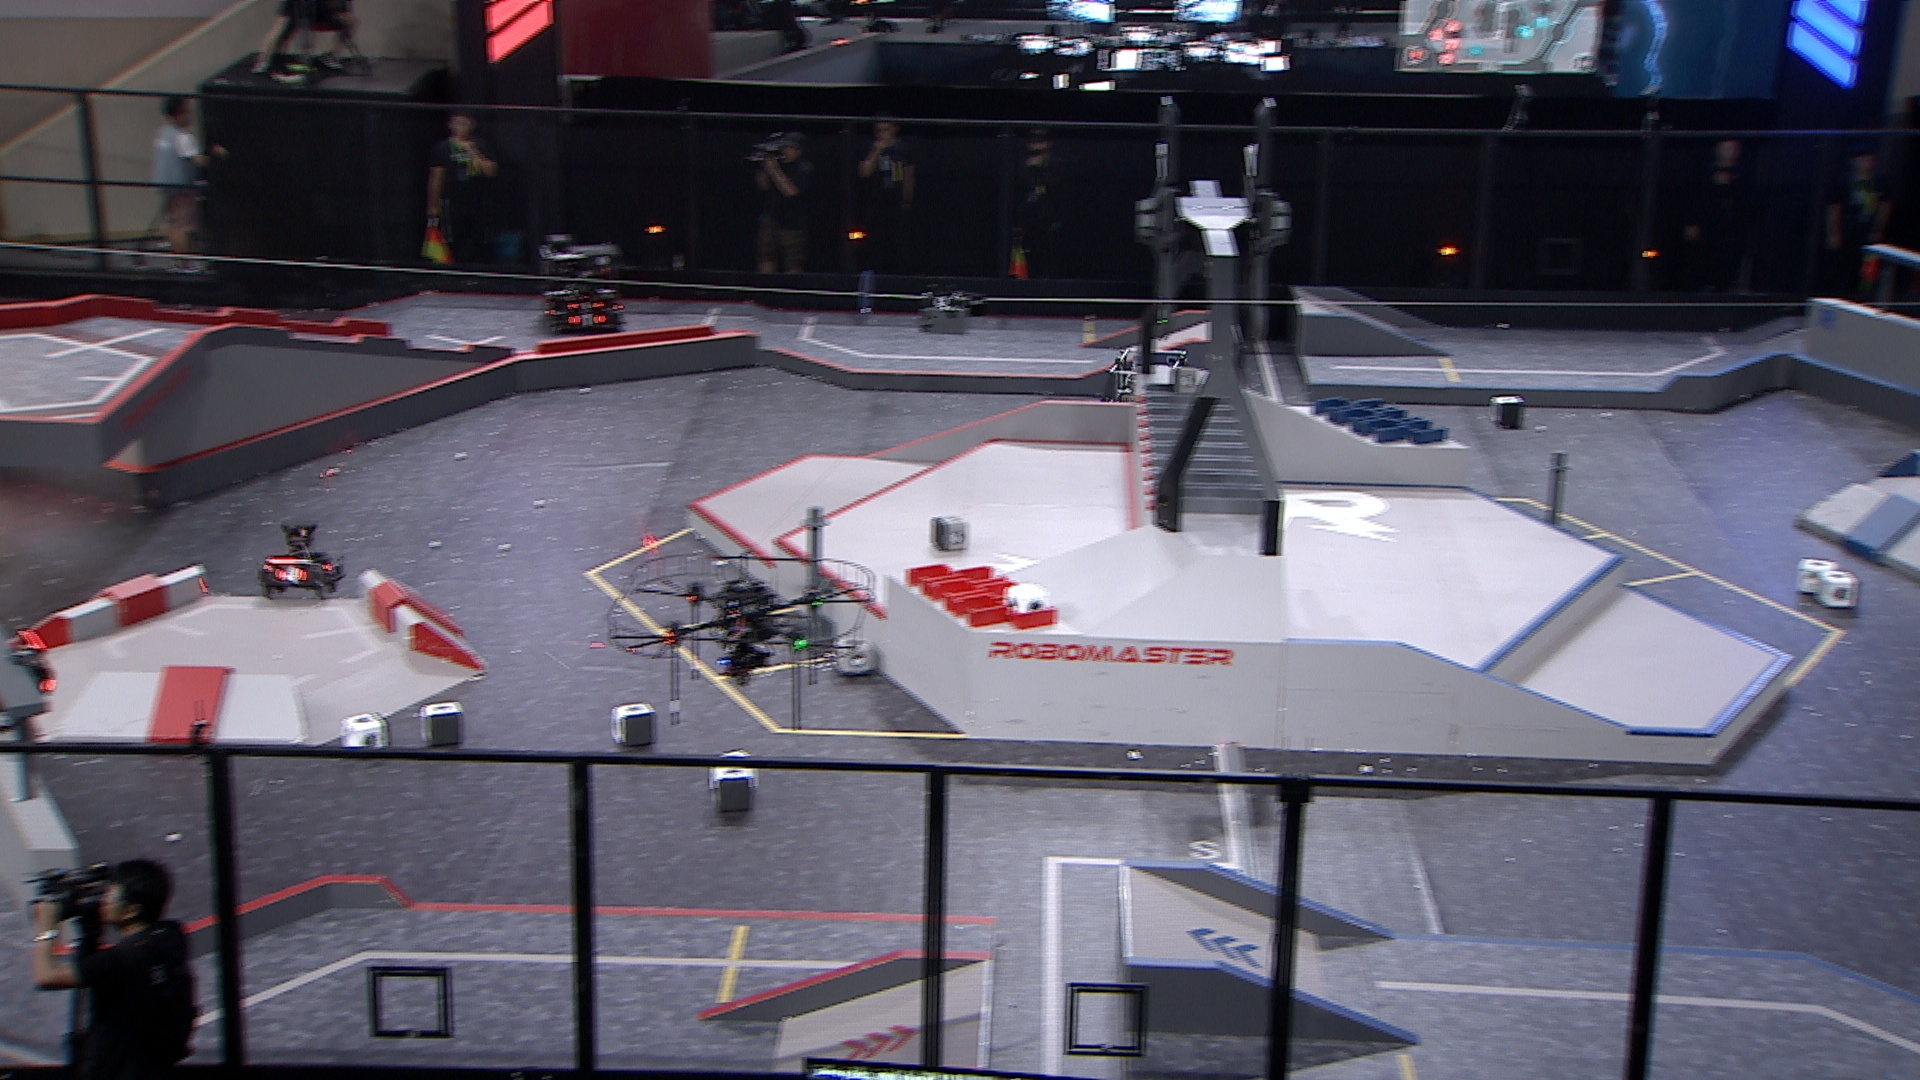armor: (273, 564, 309, 585), (568, 313, 608, 330), (562, 301, 604, 314)
car: (1098, 347, 1195, 448), (538, 237, 626, 338), (258, 520, 348, 599)
